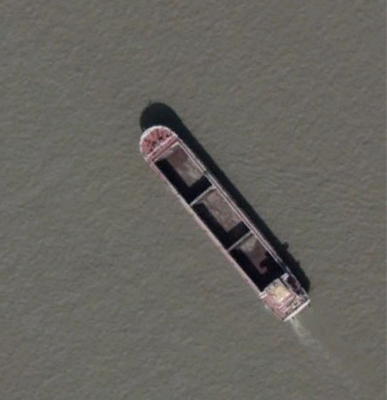boat: (137, 120, 312, 324)
